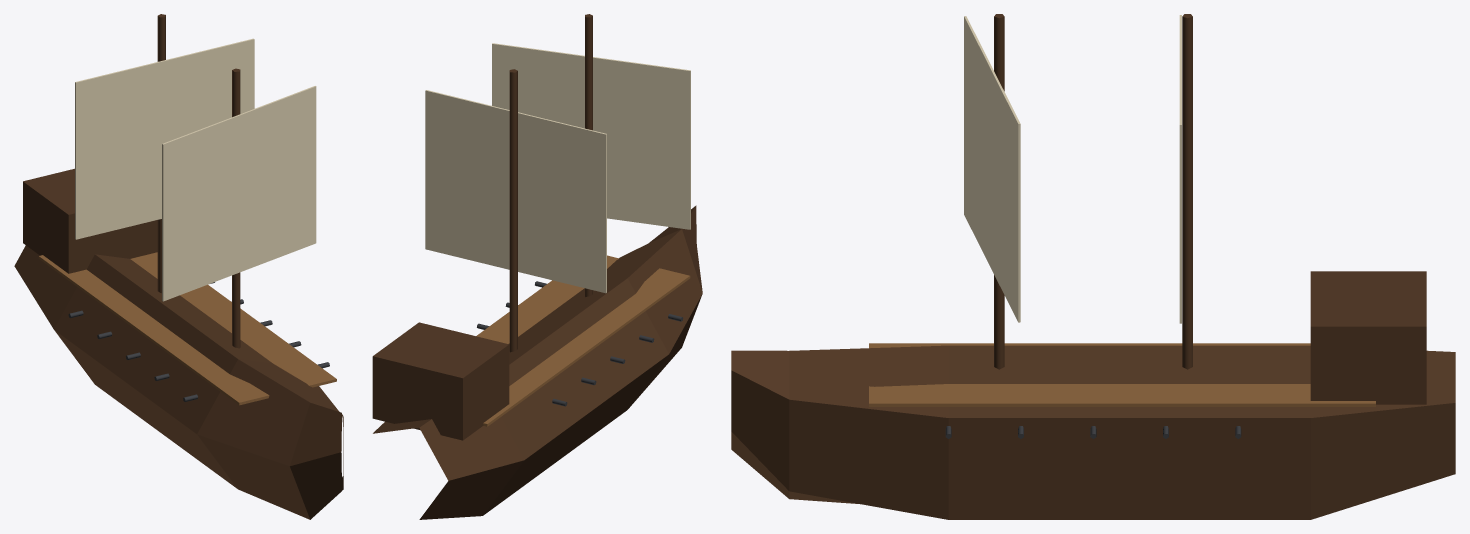
The model's file is veh_naval_warship_a03_lod1.glb.
3 renders of one model, left to right at view 1: azimuth 30°, elevation 25°; view 2: azimuth 150°, elevation 25°; view 3: azimuth 270°, elevation 25°, orthographic. The views are drawn at different scales.
Parts seen in each view (by area): view 1: body, sail_1, sail_0; view 2: body, sail_0, sail_1; view 3: body, sail_1, sail_0.
Boxes of the visible parts, <box> form: body: <box>14,14,343,519</box>; sail_1: <box>162,86,316,301</box>; sail_0: <box>75,38,254,239</box>; body: <box>372,14,702,519</box>; sail_0: <box>425,90,606,293</box>; sail_1: <box>492,43,690,229</box>; body: <box>731,14,1455,519</box>; sail_1: <box>964,16,1020,322</box>; sail_0: <box>1179,15,1181,323</box>.
Bounding box in the file's own units: 5.62 × 12.02 × 15.6.
